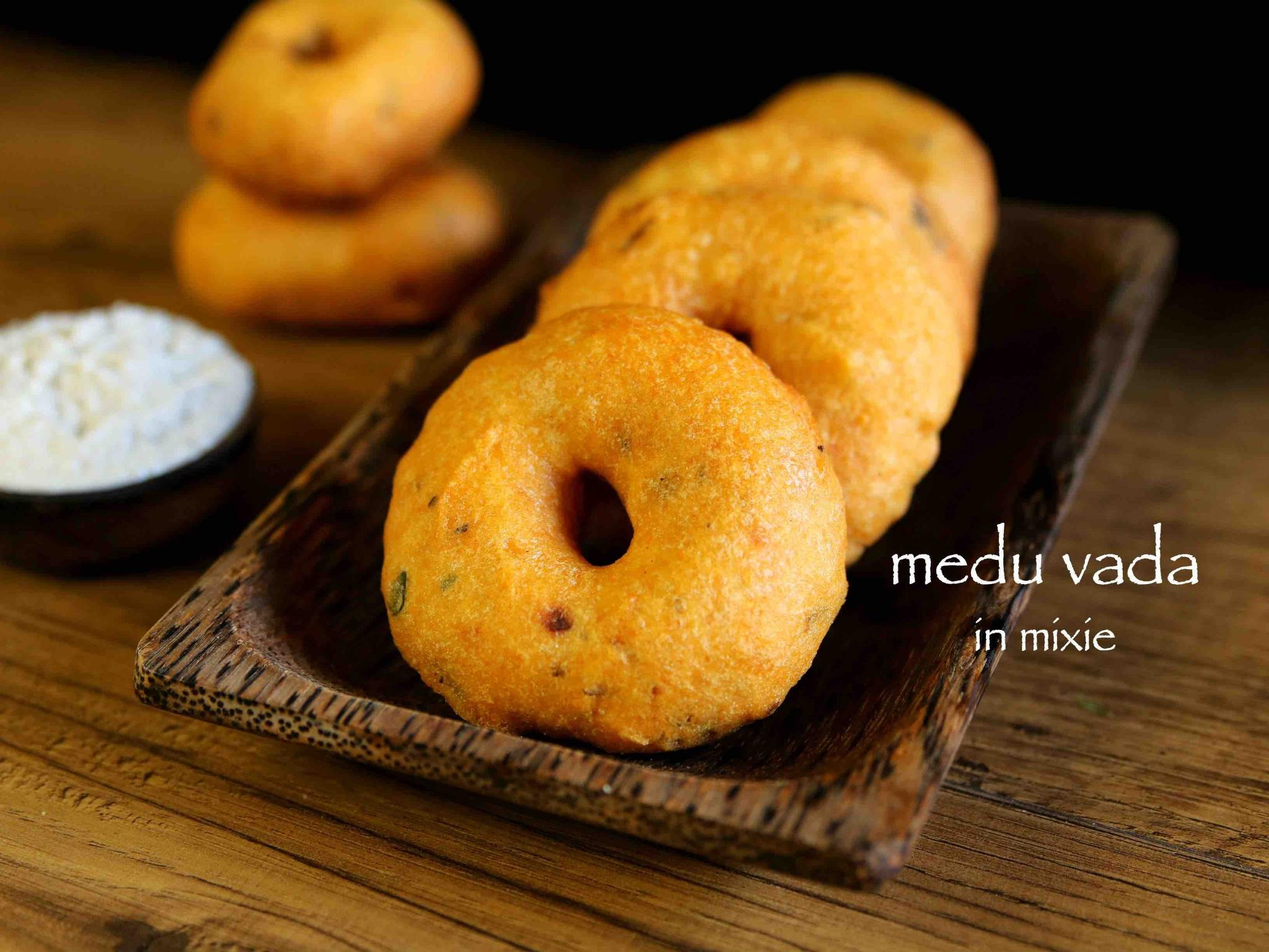medu vada: (385, 36, 888, 746)
